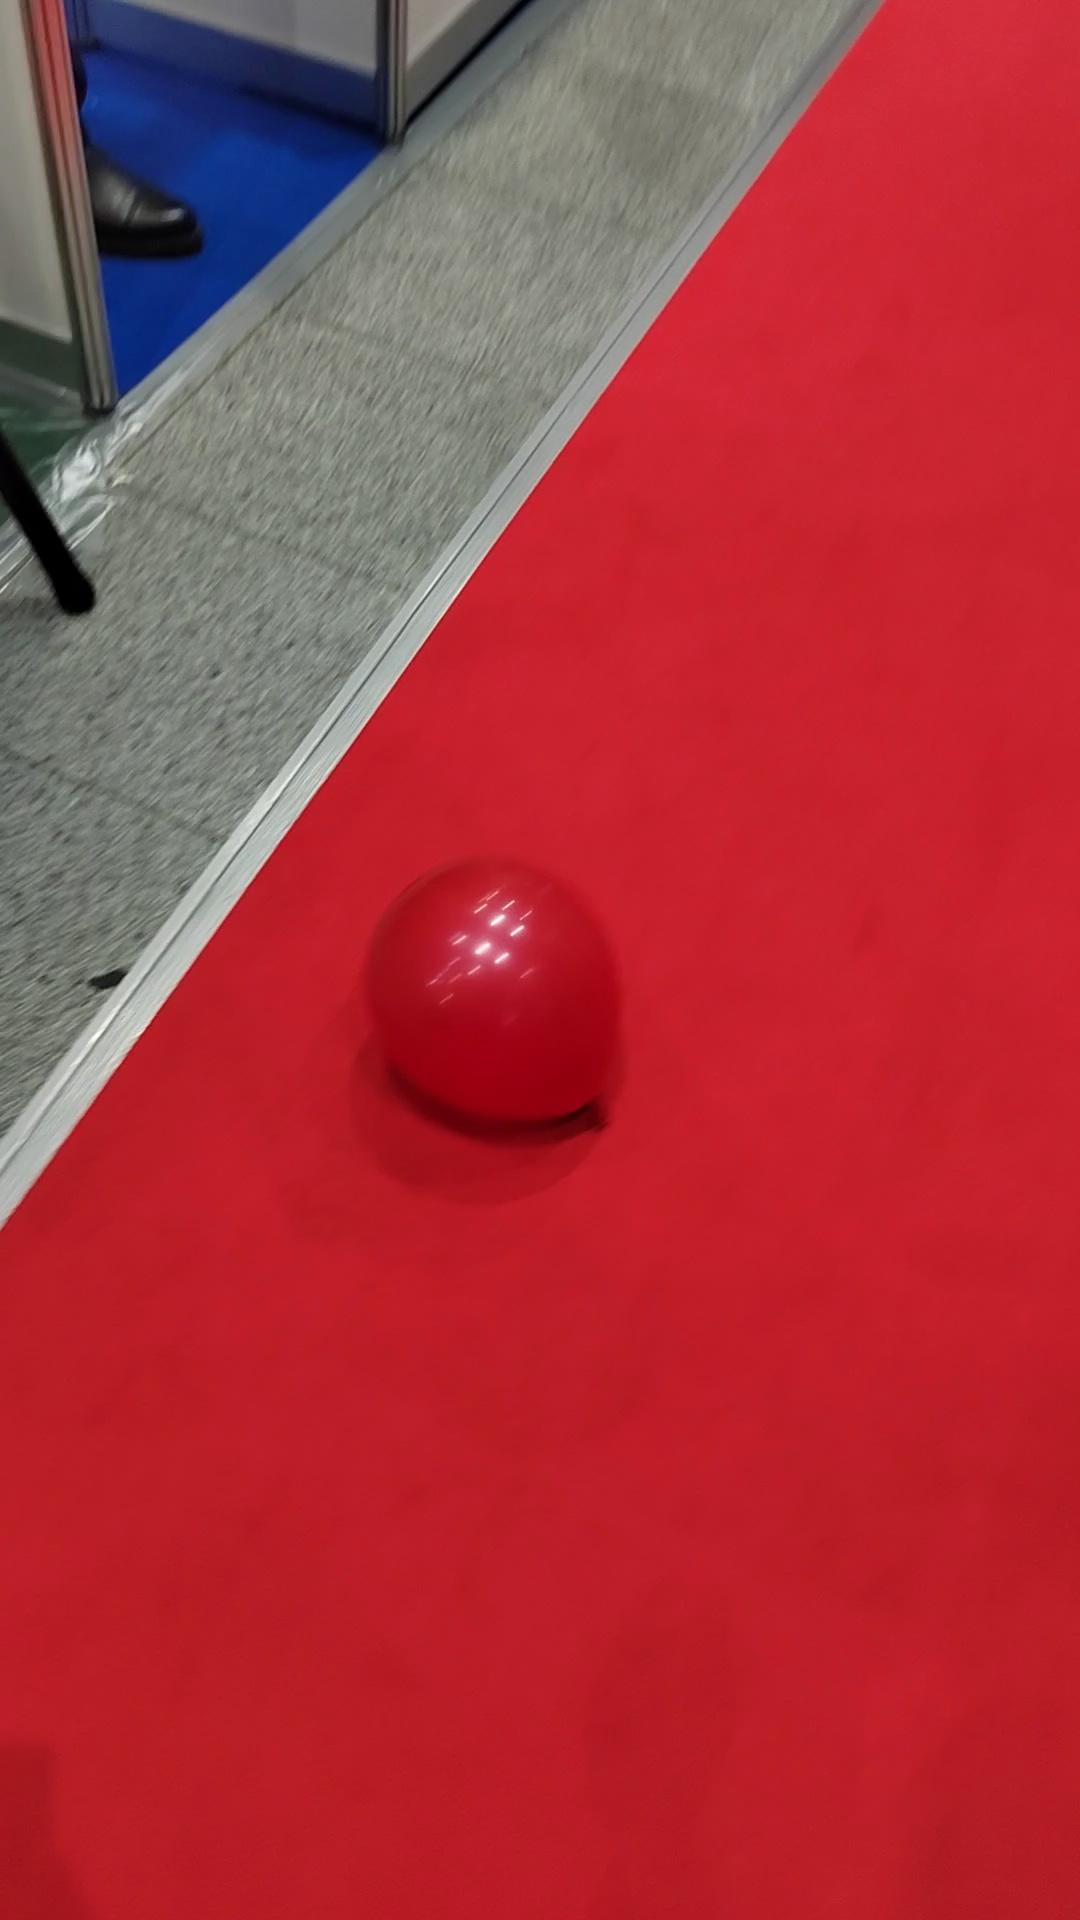red: (367, 857, 618, 1122)
